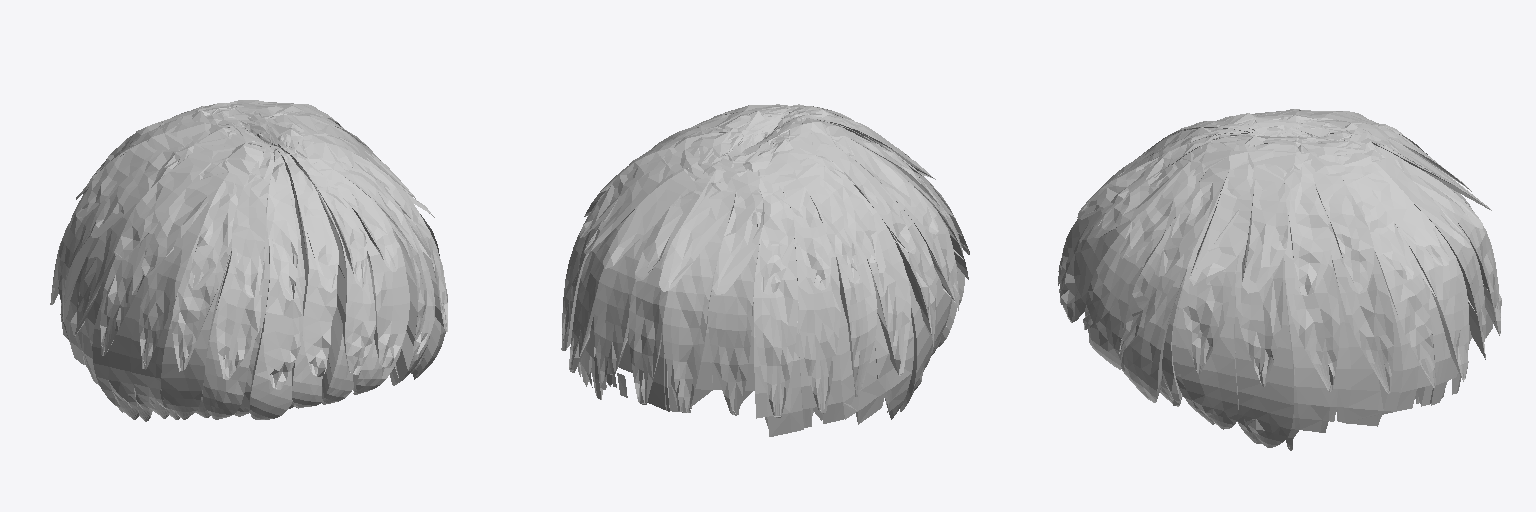
3 views of the same model, side by side, from view 1: azimuth 30°, elevation 25°; view 2: azimuth 150°, elevation 25°; view 3: azimuth 270°, elevation 25° (orthographic).
Visible parts, largest first — view 1: duke; view 2: duke; view 3: duke.
Part boxes in pixels (x1,y1,x2,y2): duke: (50,100,447,421); duke: (561,104,969,436); duke: (1058,109,1501,450).
Bounding box in the file's own units: 0.0819 × 0.0639 × 0.0985.